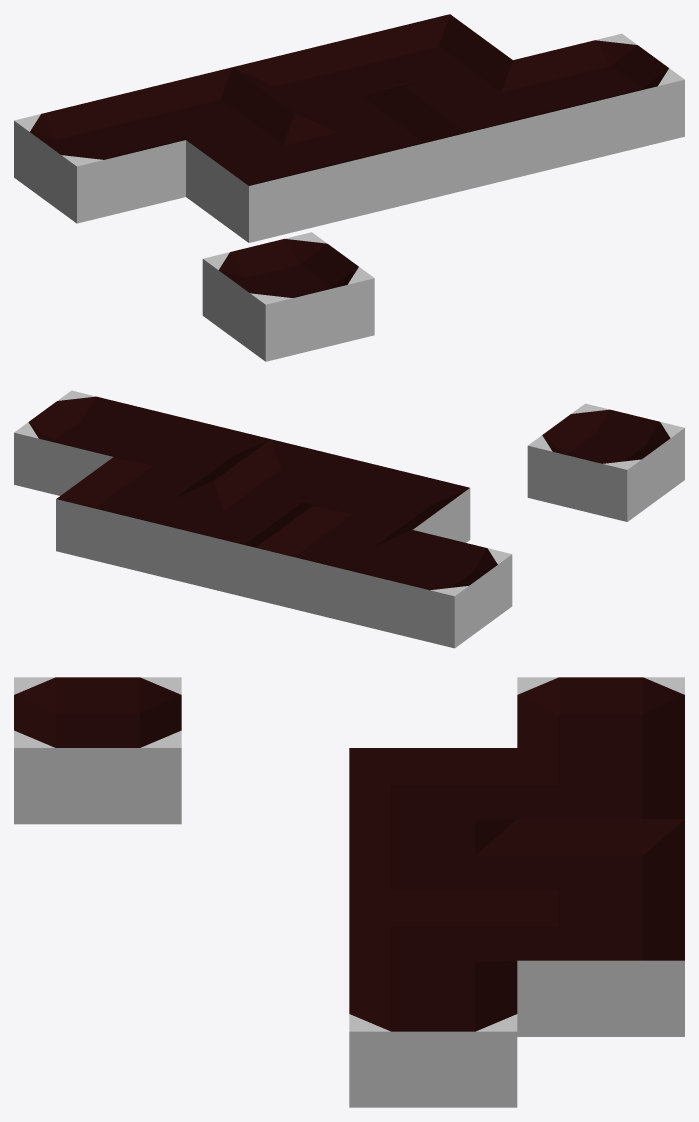
File: 48f_path.obj
3 views of the same model, one above another, from view 1: azimuth 30°, elevation 25°; view 2: azimuth 150°, elevation 25°; view 3: azimuth 270°, elevation 25° (orthographic). The views are drawn at different scales.
Parts seen in each view (by area): view 1: foil.hole.0.1_Cube.097, foil.ending.0.4_ending.191, foil.corner.1.3_corner.479, foil.ending.4.3_ending.192, foil.corner.2.3_corner.481, foil.corner.3.3_corner.483, foil.corner.3.4_corner.484, foil.corner.1.4_corner.480, foil.corner.2.4_corner.482; view 2: foil.hole.0.1_Cube.097, foil.ending.0.4_ending.191, foil.corner.1.4_corner.480, foil.corner.3.4_corner.484, foil.ending.4.3_ending.192, foil.corner.2.4_corner.482, foil.corner.1.3_corner.479, foil.corner.2.3_corner.481, foil.corner.3.3_corner.483; view 3: foil.hole.0.1_Cube.097, foil.ending.4.3_ending.192, foil.corner.3.4_corner.484, foil.corner.1.3_corner.479, foil.corner.3.3_corner.483, foil.ending.0.4_ending.191, foil.corner.2.4_corner.482, foil.corner.2.3_corner.481, foil.corner.1.4_corner.480.
Boxes of the visible parts, x1=… form: foil.hole.0.1_Cube.097: x1=202, y1=232, x2=374, y2=361; foil.ending.0.4_ending.191: x1=14, y1=94, x2=185, y2=223; foil.corner.1.3_corner.479: x1=186, y1=113, x2=357, y2=242; foil.ending.4.3_ending.192: x1=513, y1=33, x2=684, y2=163; foil.corner.2.3_corner.481: x1=295, y1=87, x2=466, y2=216; foil.corner.3.3_corner.483: x1=405, y1=60, x2=575, y2=189; foil.corner.3.4_corner.484: x1=341, y1=14, x2=512, y2=94; foil.corner.1.4_corner.480: x1=123, y1=67, x2=294, y2=147; foil.corner.2.4_corner.482: x1=232, y1=41, x2=403, y2=120; foil.hole.0.1_Cube.097: x1=527, y1=403, x2=684, y2=521; foil.ending.0.4_ending.191: x1=355, y1=530, x2=512, y2=648; foil.corner.1.4_corner.480: x1=255, y1=506, x2=412, y2=623; foil.corner.3.4_corner.484: x1=56, y1=457, x2=212, y2=575; foil.ending.4.3_ending.192: x1=14, y1=390, x2=170, y2=495; foil.corner.2.4_corner.482: x1=155, y1=481, x2=312, y2=599; foil.corner.1.3_corner.479: x1=313, y1=463, x2=470, y2=542; foil.corner.2.3_corner.481: x1=213, y1=439, x2=370, y2=512; foil.corner.3.3_corner.483: x1=114, y1=415, x2=270, y2=487; foil.hole.0.1_Cube.097: x1=14, y1=677, x2=181, y2=824; foil.ending.4.3_ending.192: x1=349, y1=961, x2=517, y2=1107; foil.corner.3.4_corner.484: x1=517, y1=890, x2=684, y2=1036; foil.corner.1.3_corner.479: x1=349, y1=748, x2=517, y2=837; foil.corner.3.3_corner.483: x1=349, y1=890, x2=517, y2=979; foil.ending.0.4_ending.191: x1=517, y1=677, x2=684, y2=766; foil.corner.2.4_corner.482: x1=517, y1=819, x2=684, y2=908; foil.corner.2.3_corner.481: x1=349, y1=819, x2=517, y2=889; foil.corner.1.4_corner.480: x1=517, y1=748, x2=684, y2=818.
Bounding box in the file's own units: 10 × 1 × 8.
